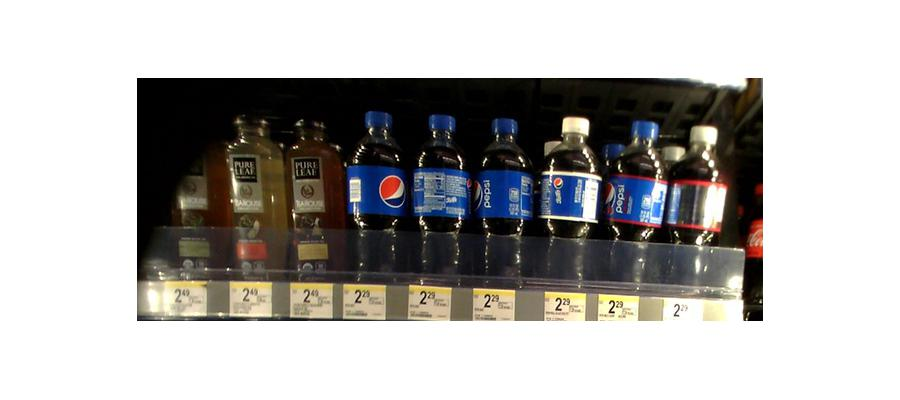bottle: (539, 117, 602, 290), (223, 107, 286, 278), (669, 120, 731, 292), (346, 107, 408, 276), (473, 119, 533, 286), (607, 117, 665, 287), (287, 113, 344, 282), (413, 110, 468, 282), (169, 125, 217, 276)
